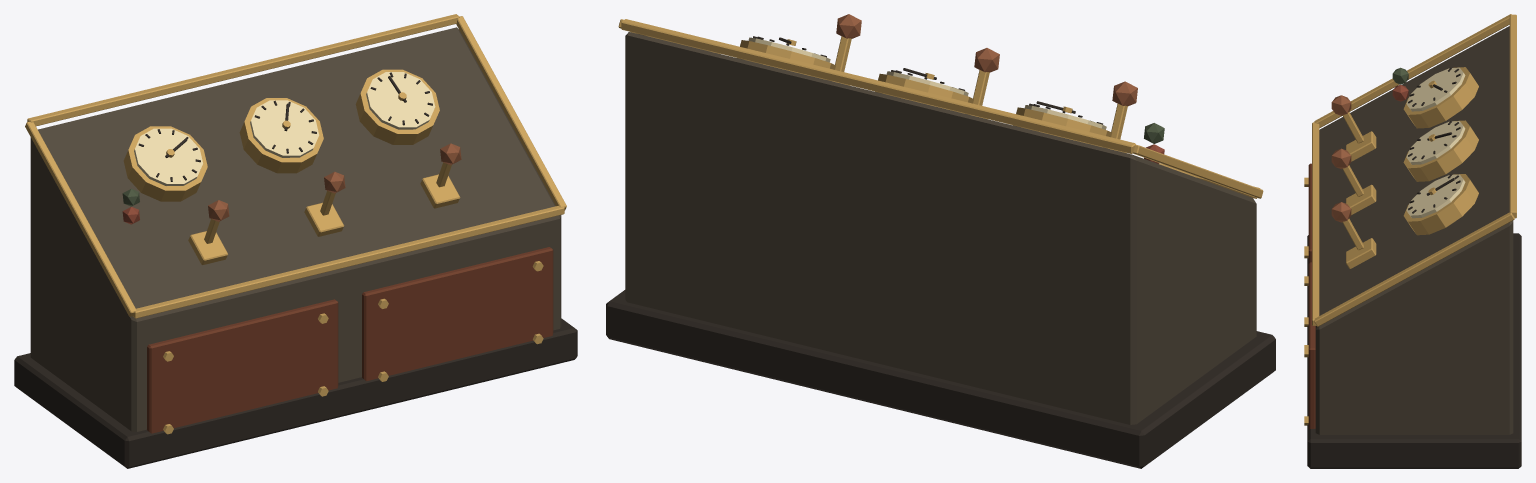
Rendered from control_console_02.glb.
The picture shows the model from 3 angles, left to right: view 1: azimuth 30°, elevation 25°; view 2: azimuth 150°, elevation 25°; view 3: azimuth 270°, elevation 25°; orthographic projection. The views are drawn at different scales.
Visible parts, largest first — view 1: Closed_cabinet, Foot, Service_panel, Service_panel_001, Deck_edge, Deck_edge_002, Gauge_1_Cream_face, Gauge_0_Cream_face, Gauge_2_Cream_face, Deck_edge_003, Deck_edge_001, Gauge_1_Housing (+5 smaller); view 2: Closed_cabinet, Foot, Deck_edge_002, Deck_edge_003, Gauge_0_Housing, Gauge_2_Housing, Gauge_1_Housing; view 3: Closed_cabinet, Foot, Deck_edge_001, Deck_edge_003, Deck_edge_002, Deck_edge, Gauge_0_Housing, Gauge_1_Housing, Gauge_2_Housing, Gauge_0_Cream_face, Gauge_1_Cream_face, Gauge_2_Cream_face (+11 smaller).
Part boxes in pixels (x1=…): Closed_cabinet: x1=30, y1=27, x2=561, y2=431; Foot: x1=14, y1=318, x2=577, y2=468; Service_panel: x1=147, y1=299, x2=338, y2=433; Service_panel_001: x1=362, y1=247, x2=553, y2=381; Deck_edge: x1=132, y1=205, x2=564, y2=318; Deck_edge_002: x1=27, y1=14, x2=459, y2=126; Gauge_1_Cream_face: x1=250, y1=100, x2=319, y2=157; Gauge_0_Cream_face: x1=134, y1=128, x2=202, y2=185; Gauge_2_Cream_face: x1=366, y1=72, x2=435, y2=129; Deck_edge_003: x1=25, y1=121, x2=136, y2=316; Deck_edge_001: x1=456, y1=16, x2=566, y2=210; Gauge_1_Housing: x1=239, y1=98, x2=323, y2=173; Closed_cabinet: x1=625, y1=32, x2=1256, y2=424; Foot: x1=606, y1=290, x2=1275, y2=468; Deck_edge_002: x1=621, y1=19, x2=1135, y2=153; Deck_edge_003: x1=1133, y1=144, x2=1263, y2=198; Gauge_0_Housing: x1=1013, y1=107, x2=1111, y2=148; Gauge_2_Housing: x1=737, y1=40, x2=835, y2=81; Gauge_1_Housing: x1=875, y1=73, x2=973, y2=114; Closed_cabinet: x1=1315, y1=26, x2=1513, y2=434; Foot: x1=1307, y1=233, x2=1521, y2=468; Deck_edge_001: x1=1314, y1=212, x2=1514, y2=326; Deck_edge_003: x1=1314, y1=14, x2=1511, y2=128; Deck_edge_002: x1=1509, y1=14, x2=1516, y2=218; Deck_edge: x1=1312, y1=122, x2=1319, y2=325; Gauge_0_Housing: x1=1403, y1=67, x2=1478, y2=128; Gauge_1_Housing: x1=1403, y1=120, x2=1478, y2=181; Gauge_2_Housing: x1=1403, y1=174, x2=1478, y2=235; Gauge_0_Cream_face: x1=1406, y1=67, x2=1465, y2=111; Gauge_1_Cream_face: x1=1406, y1=121, x2=1465, y2=164; Gauge_2_Cream_face: x1=1406, y1=174, x2=1465, y2=218.
Size of the model in its own units: 2.37 by 1.34 by 1.04.
